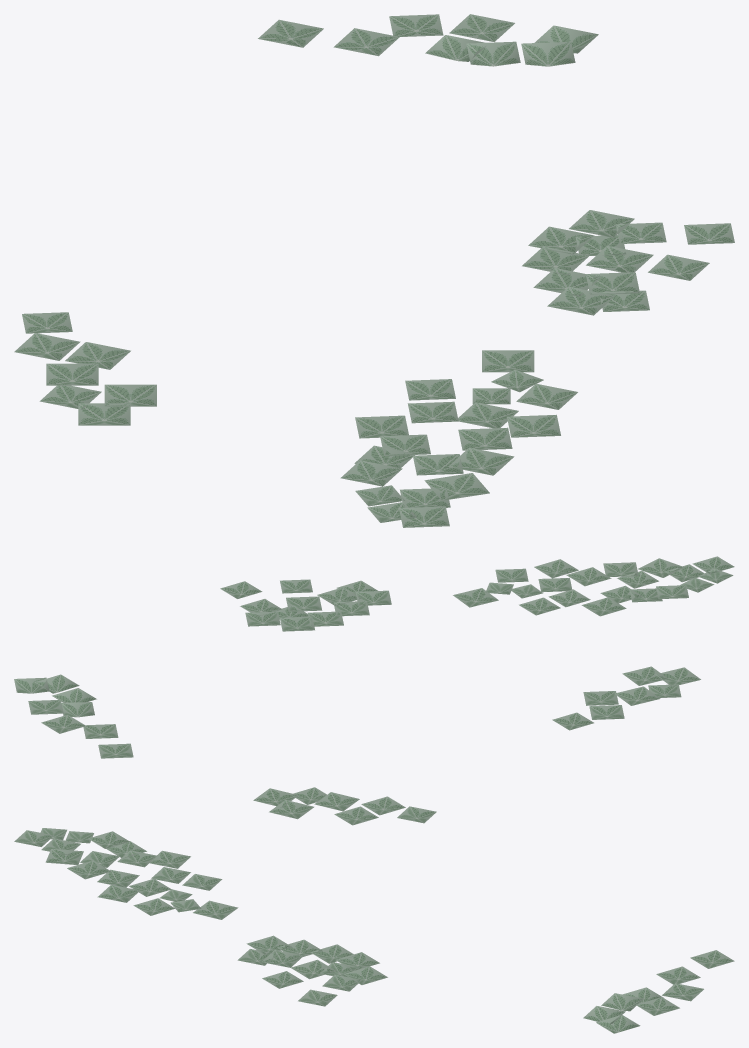
Rendered from kd_stage_135ebf_0_72_bounded.glb.
3 renders of one model, top to bottom at view 1: azimuth 30°, elevation 25°; view 2: azimuth 150°, elevation 25°; view 3: azimuth 270°, elevation 25°, orthographic. The views are drawn at different scales.
Parts seen in each view (by area): view 1: kd_stage_135ebf_0_72_bounded; view 2: kd_stage_135ebf_0_72_bounded; view 3: kd_stage_135ebf_0_72_bounded.
Part boxes in pixels (x1=…): kd_stage_135ebf_0_72_bounded: x1=14, y1=14, x2=734, y2=527; kd_stage_135ebf_0_72_bounded: x1=14, y1=556, x2=734, y2=758; kd_stage_135ebf_0_72_bounded: x1=14, y1=787, x2=734, y2=1033.
Bounding box in the file's own units: 3.25 × 0.0597 × 3.97.
1 material, 1 textured.
